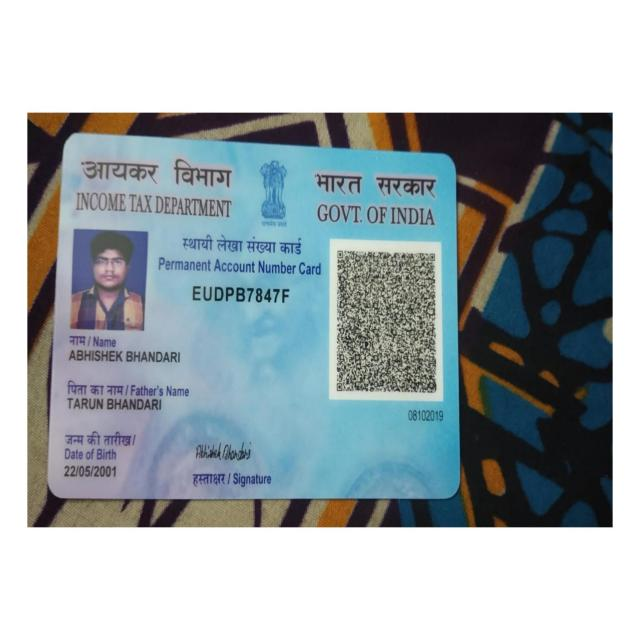pan_card: (49, 136, 456, 494)
